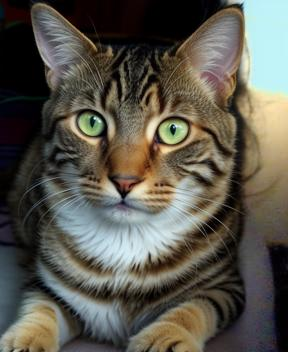cat: (1, 1, 245, 352)
